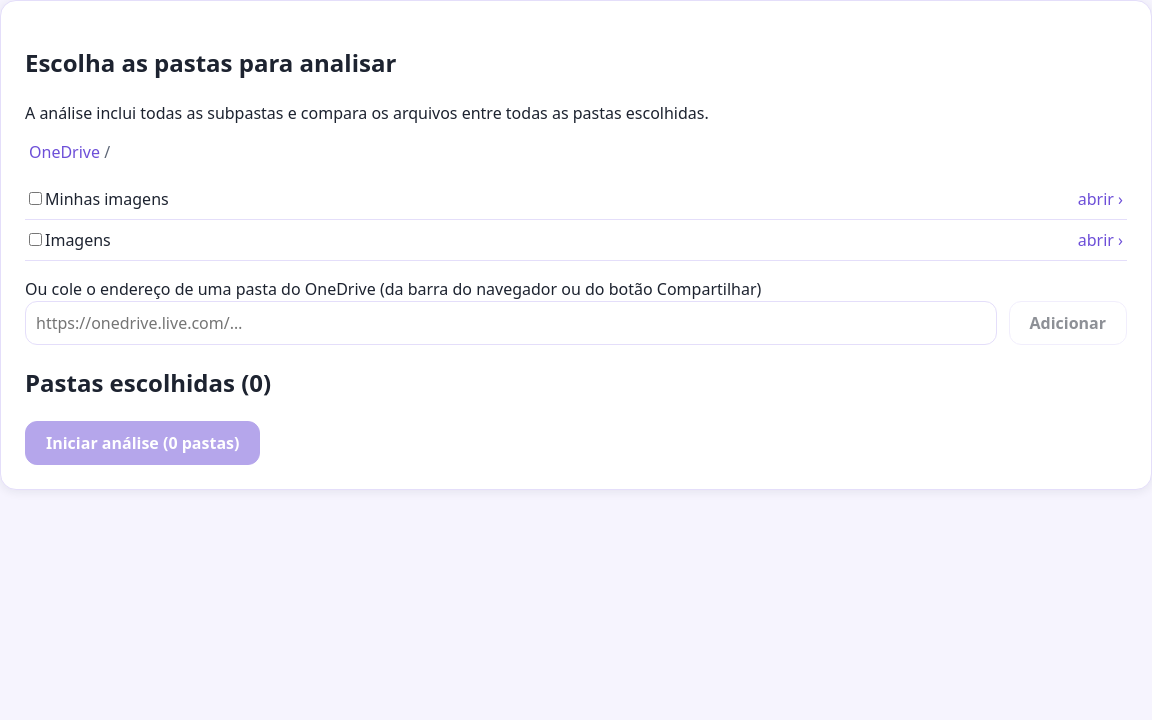
Test: escolhe pastas, entra em subpasta e avisa sobre pasta dentro de outra
Click the checkbox named "Escolher a pasta Minhas imagens" at (36, 198), box [29, 192, 42, 205]
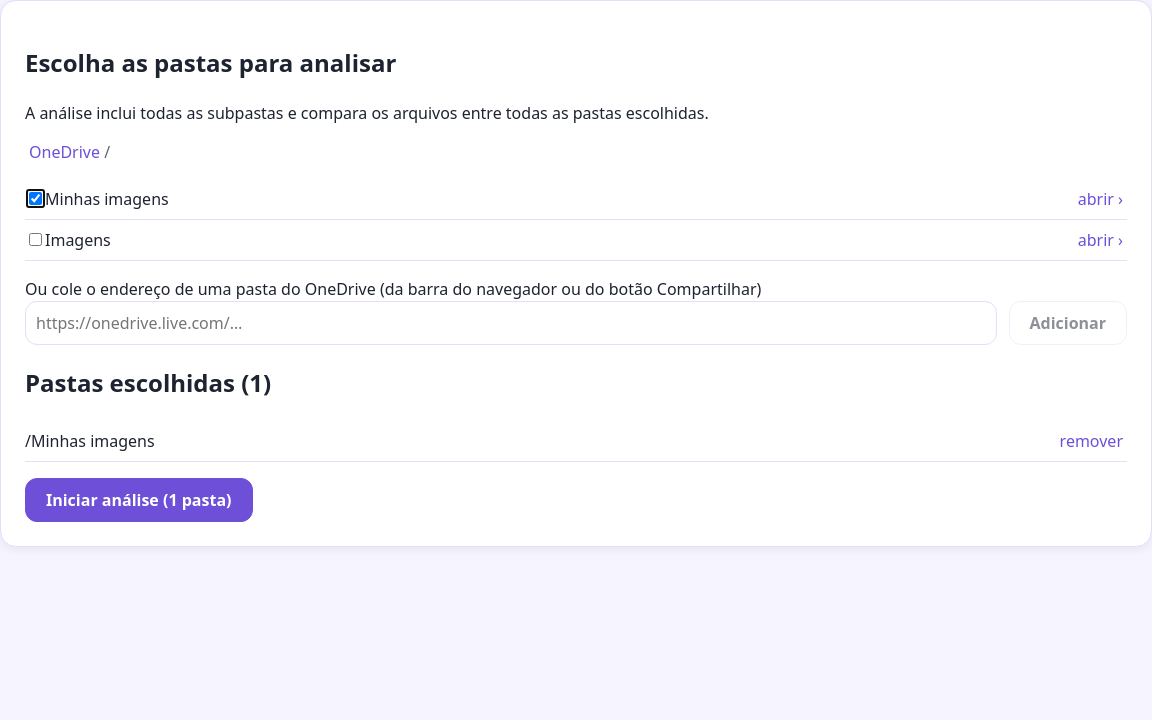
Click the button with aria-label "Abrir Minhas imagens" at (1100, 199), box [1074, 187, 1127, 211]
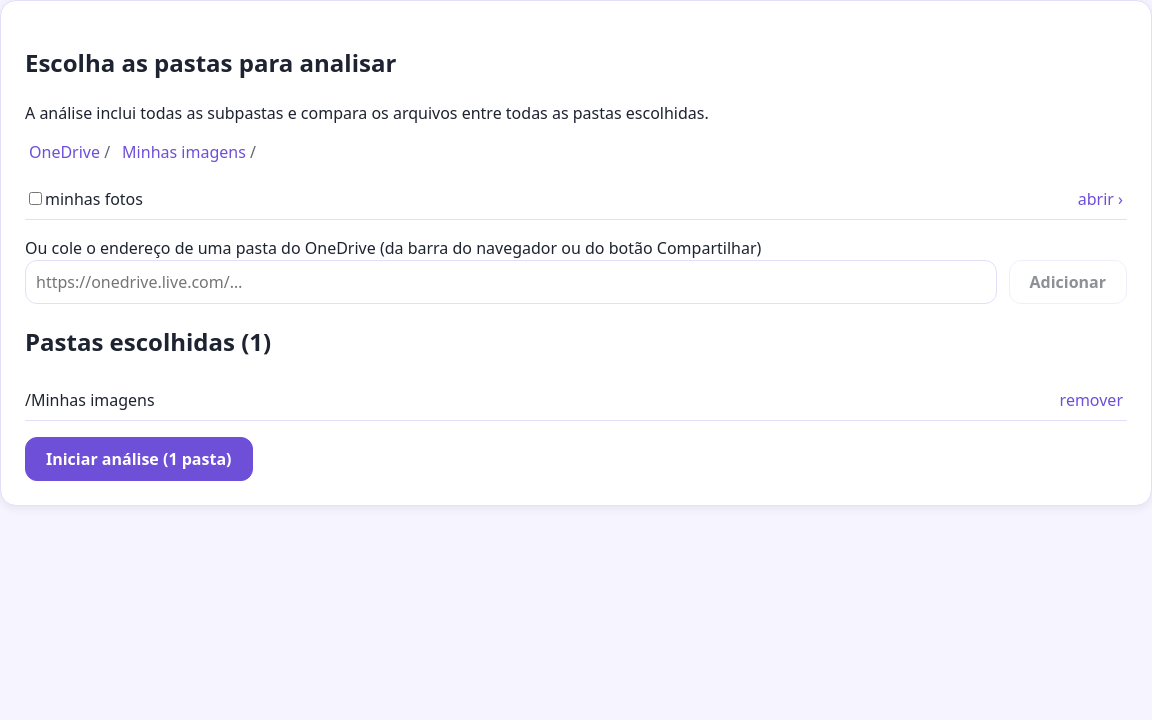
Click the checkbox named "Escolher a pasta minhas fotos" at (36, 198), box [29, 192, 42, 205]
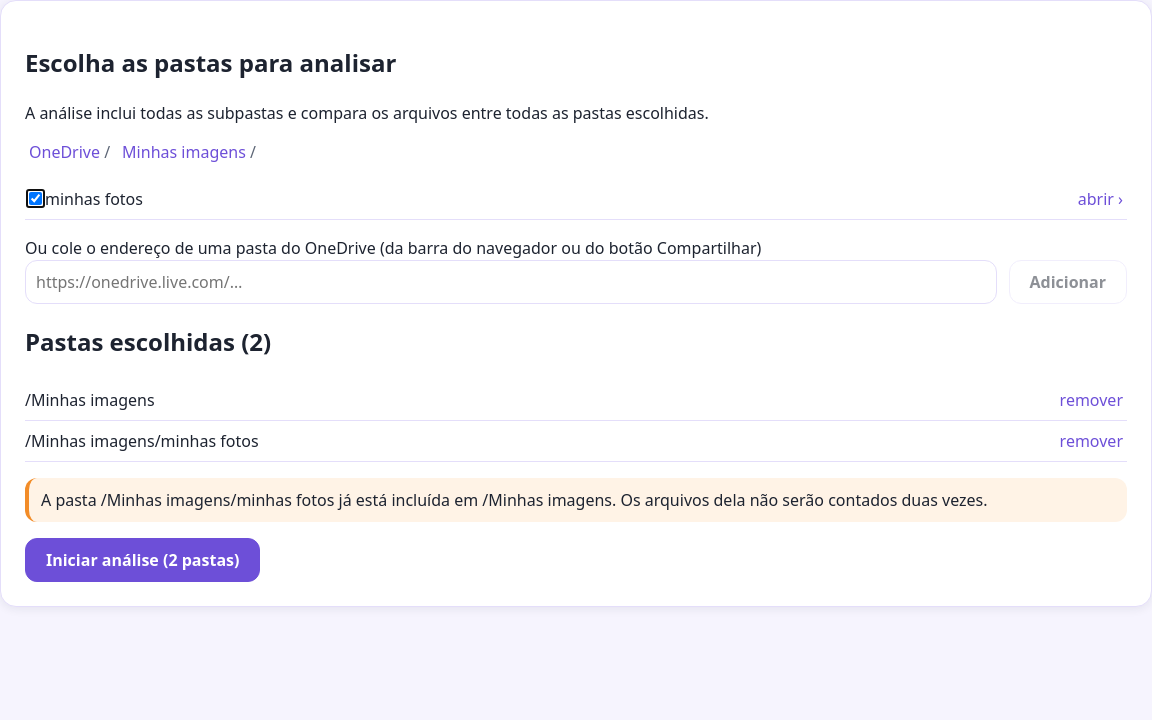
Check: the button "Iniciar análise (2 pastas)" is enabled, box [25, 538, 260, 582]
Check: the text "já está incluída em" is shown, box [334, 489, 482, 511]
